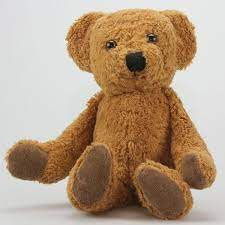teddy: (12, 5, 221, 221)
